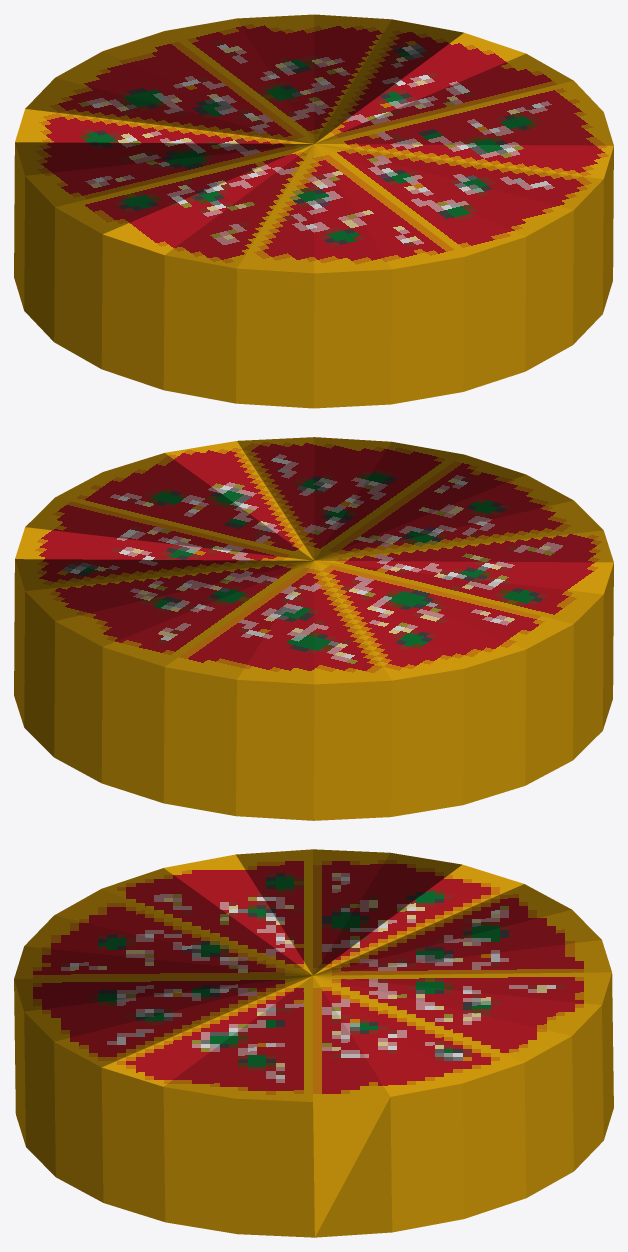
Rendered from pizza.glb.
3 views of the same model, one above another, from view 1: azimuth 30°, elevation 25°; view 2: azimuth 150°, elevation 25°; view 3: azimuth 270°, elevation 25° (orthographic).
Visible parts, largest first — view 1: Node1, Node2; view 2: Node1, Node2; view 3: Node1, Node2.
Part boxes in pixels (x1,y1,x2,y2): Node1: [15, 14, 613, 273]; Node2: [14, 143, 613, 408]; Node1: [15, 437, 613, 684]; Node2: [14, 560, 613, 820]; Node1: [14, 849, 611, 1101]; Node2: [14, 973, 613, 1237].
Size of the model in its own units: 100 by 26.23 by 100.
3 materials, 3 textured.
